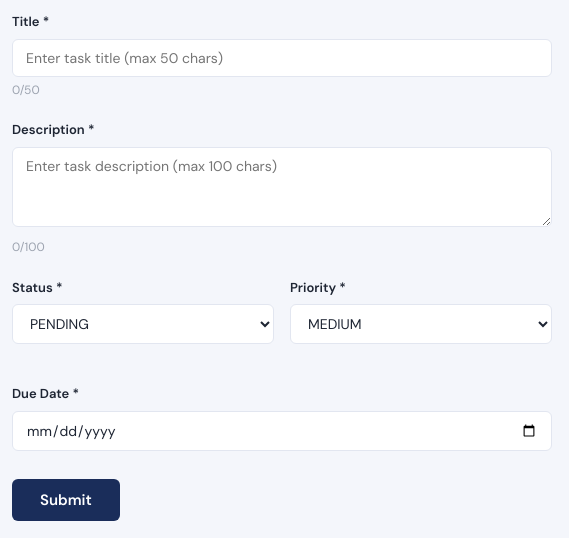
Test: TaskForm — form validation › shows character counter for title
Step 1. Type "Hello" into the field with placeholder "Enter task title (max 50 chars)" → coordinates (282, 58), box [12,39,552,77]
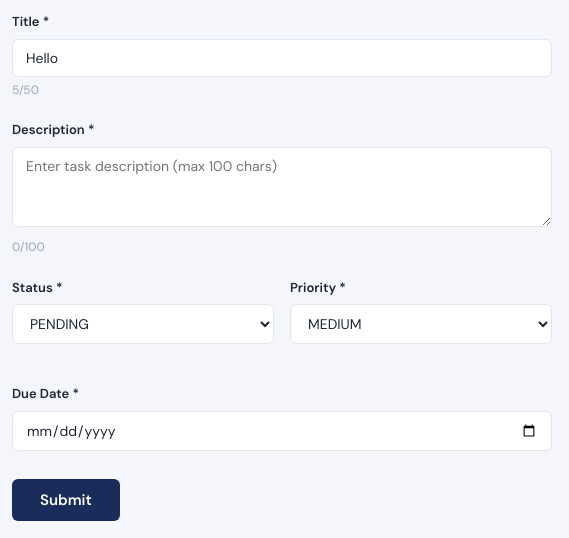
Expected: the text "5/50" is shown, [12,82,39,98]
